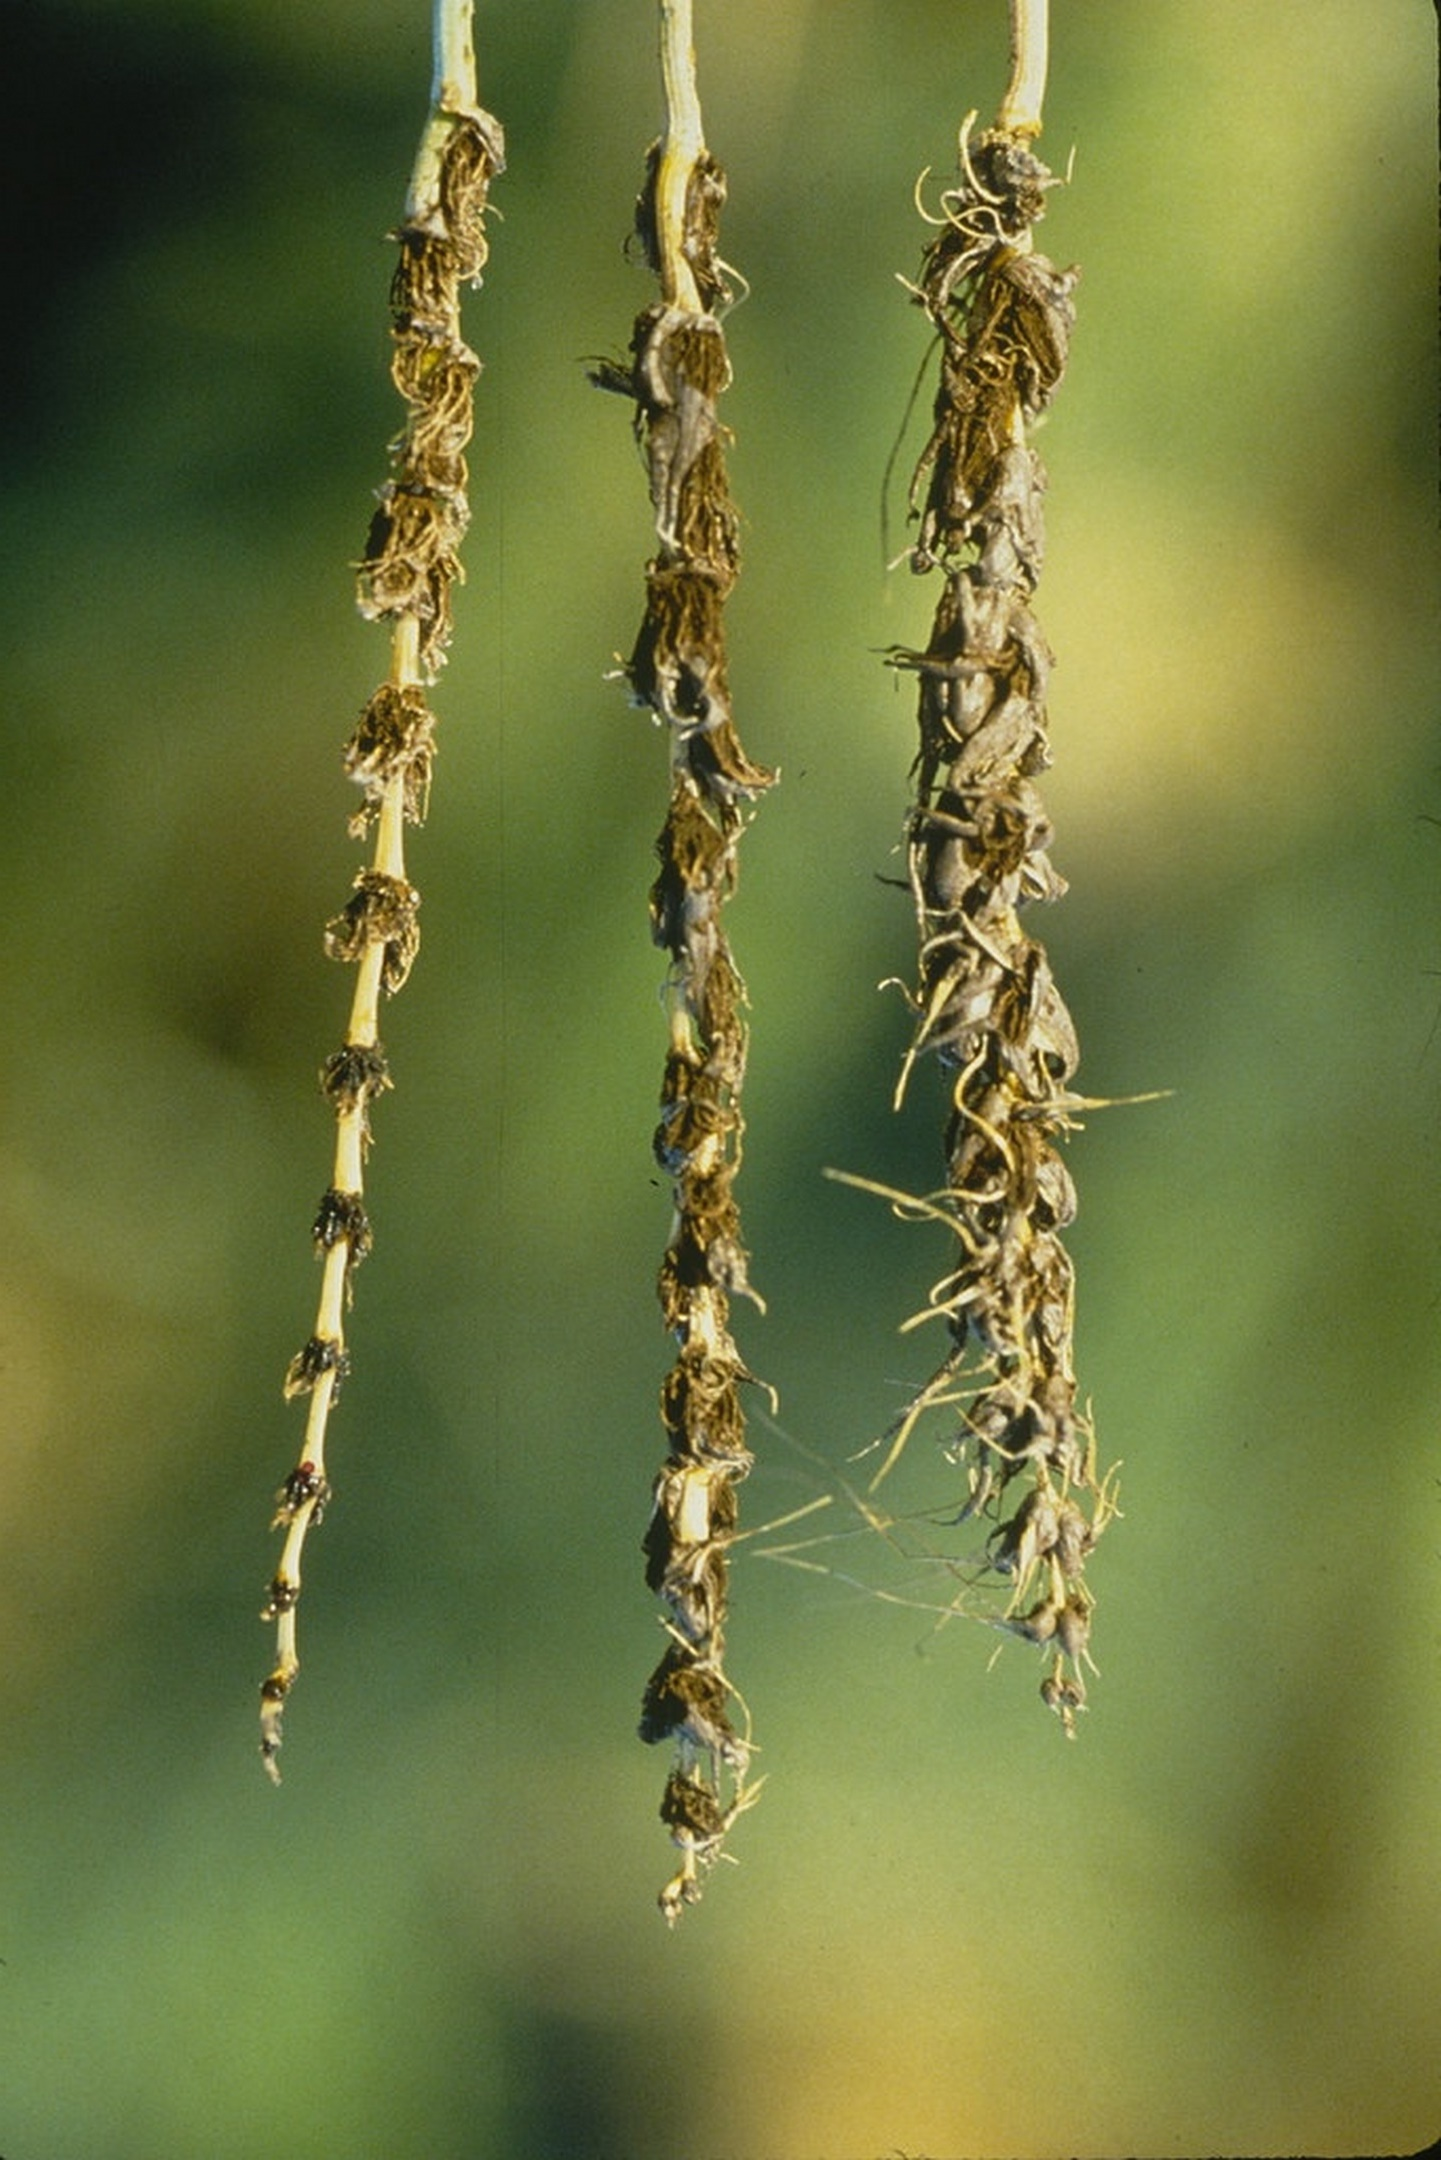Wheat Loose Smut: (220, 116, 1235, 1896)
